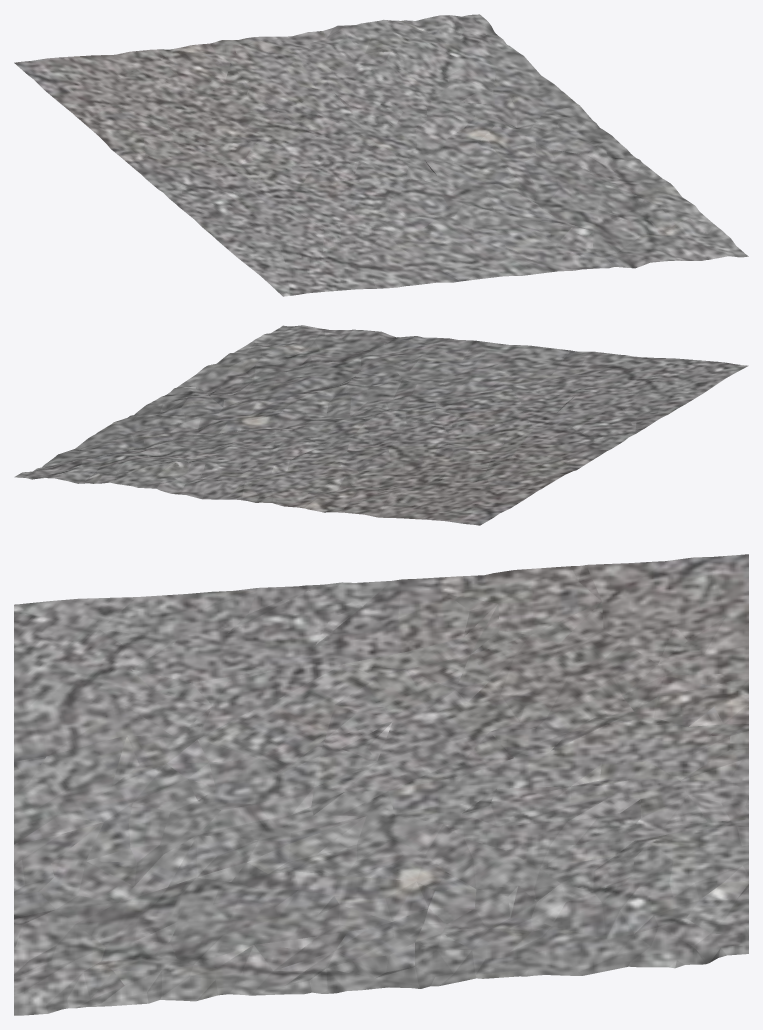
3 renders of one model, top to bottom at view 1: azimuth 30°, elevation 25°; view 2: azimuth 150°, elevation 25°; view 3: azimuth 270°, elevation 25°, orthographic. The views are drawn at different scales.
Size of the model in its own units: 0.8374 by 0.1898 by 0.8374.
3 materials, 3 textured.
